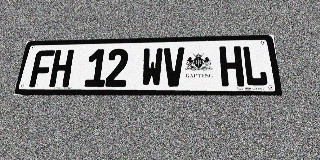1: (84, 49, 108, 87)
2: (105, 48, 129, 87)
F: (29, 50, 55, 87)
H: (219, 46, 244, 86), (49, 50, 74, 87)
L: (241, 46, 269, 86)
V: (163, 47, 185, 87)
W: (141, 48, 163, 87)
